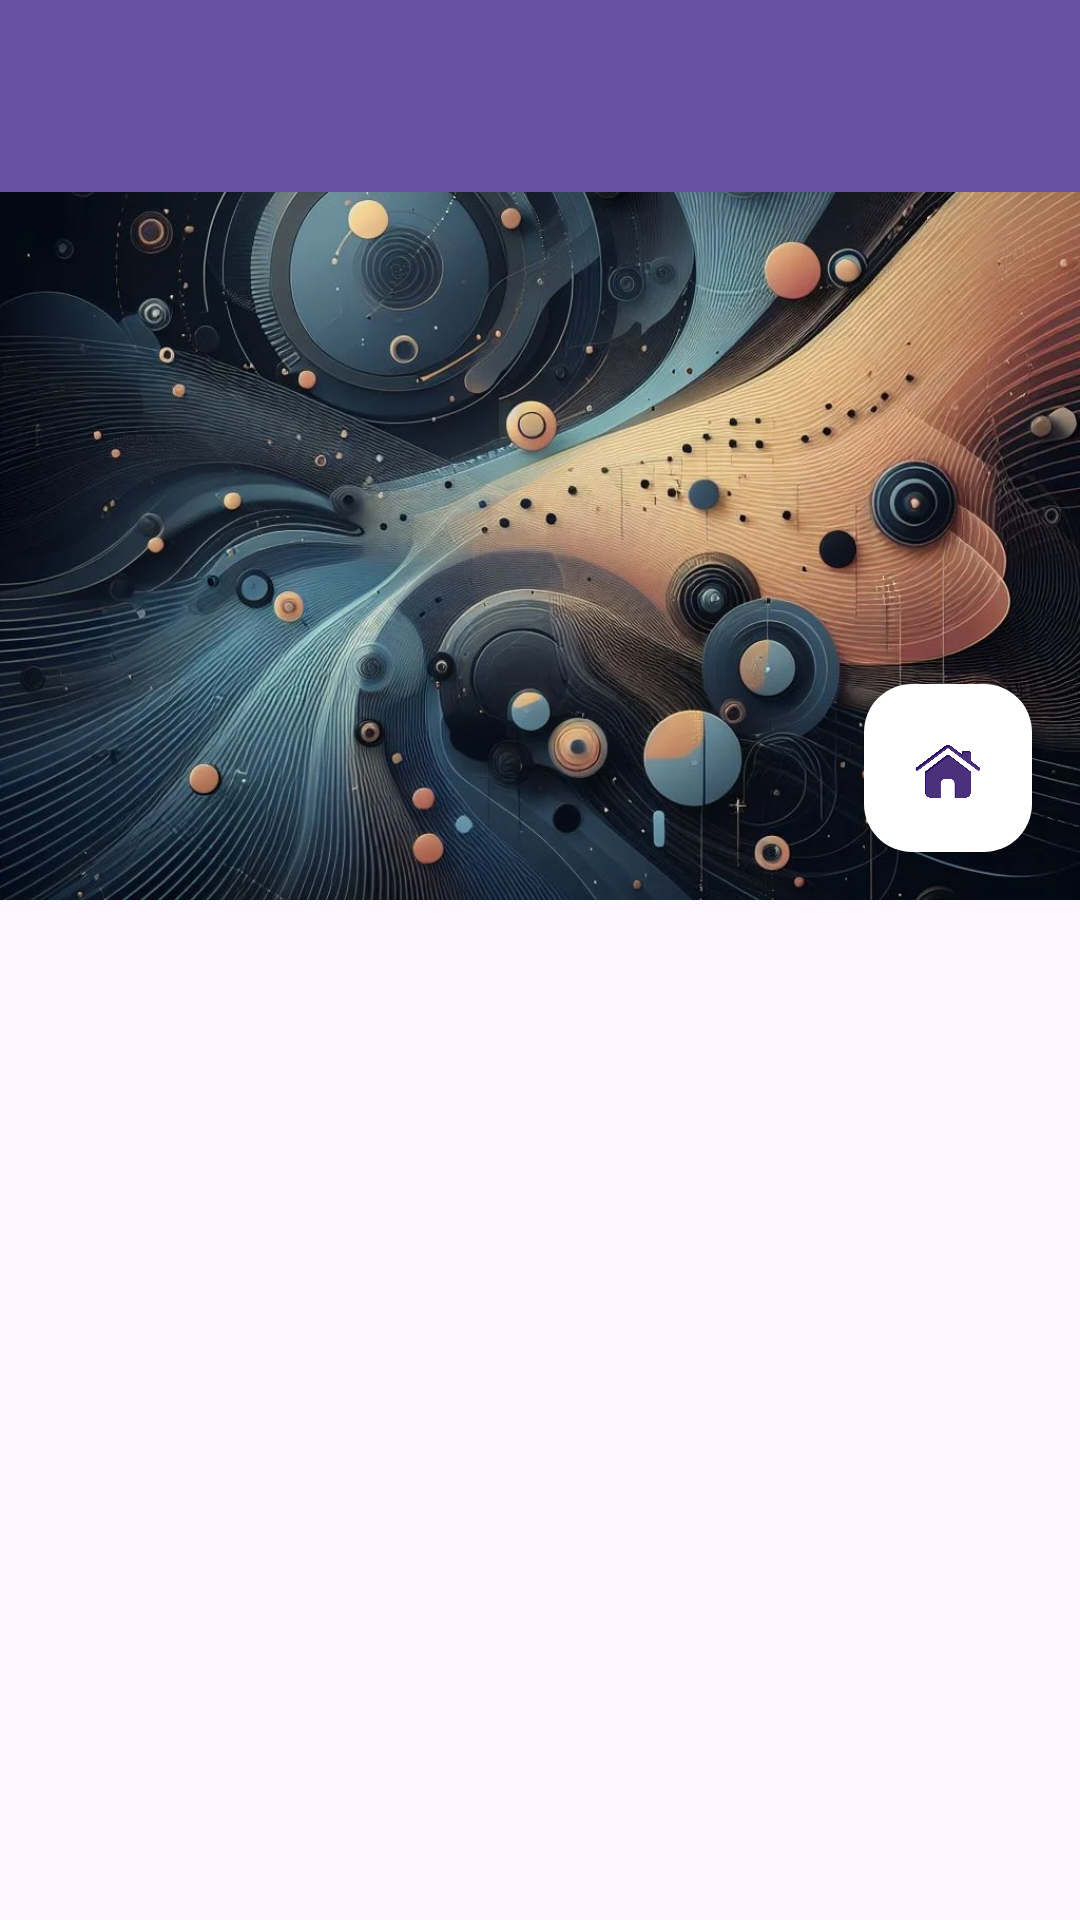

Where icons sit on this 1080px×1920px app screen, as (x1, y1, x2, y2):
homemenu: (864, 684, 1032, 852)
